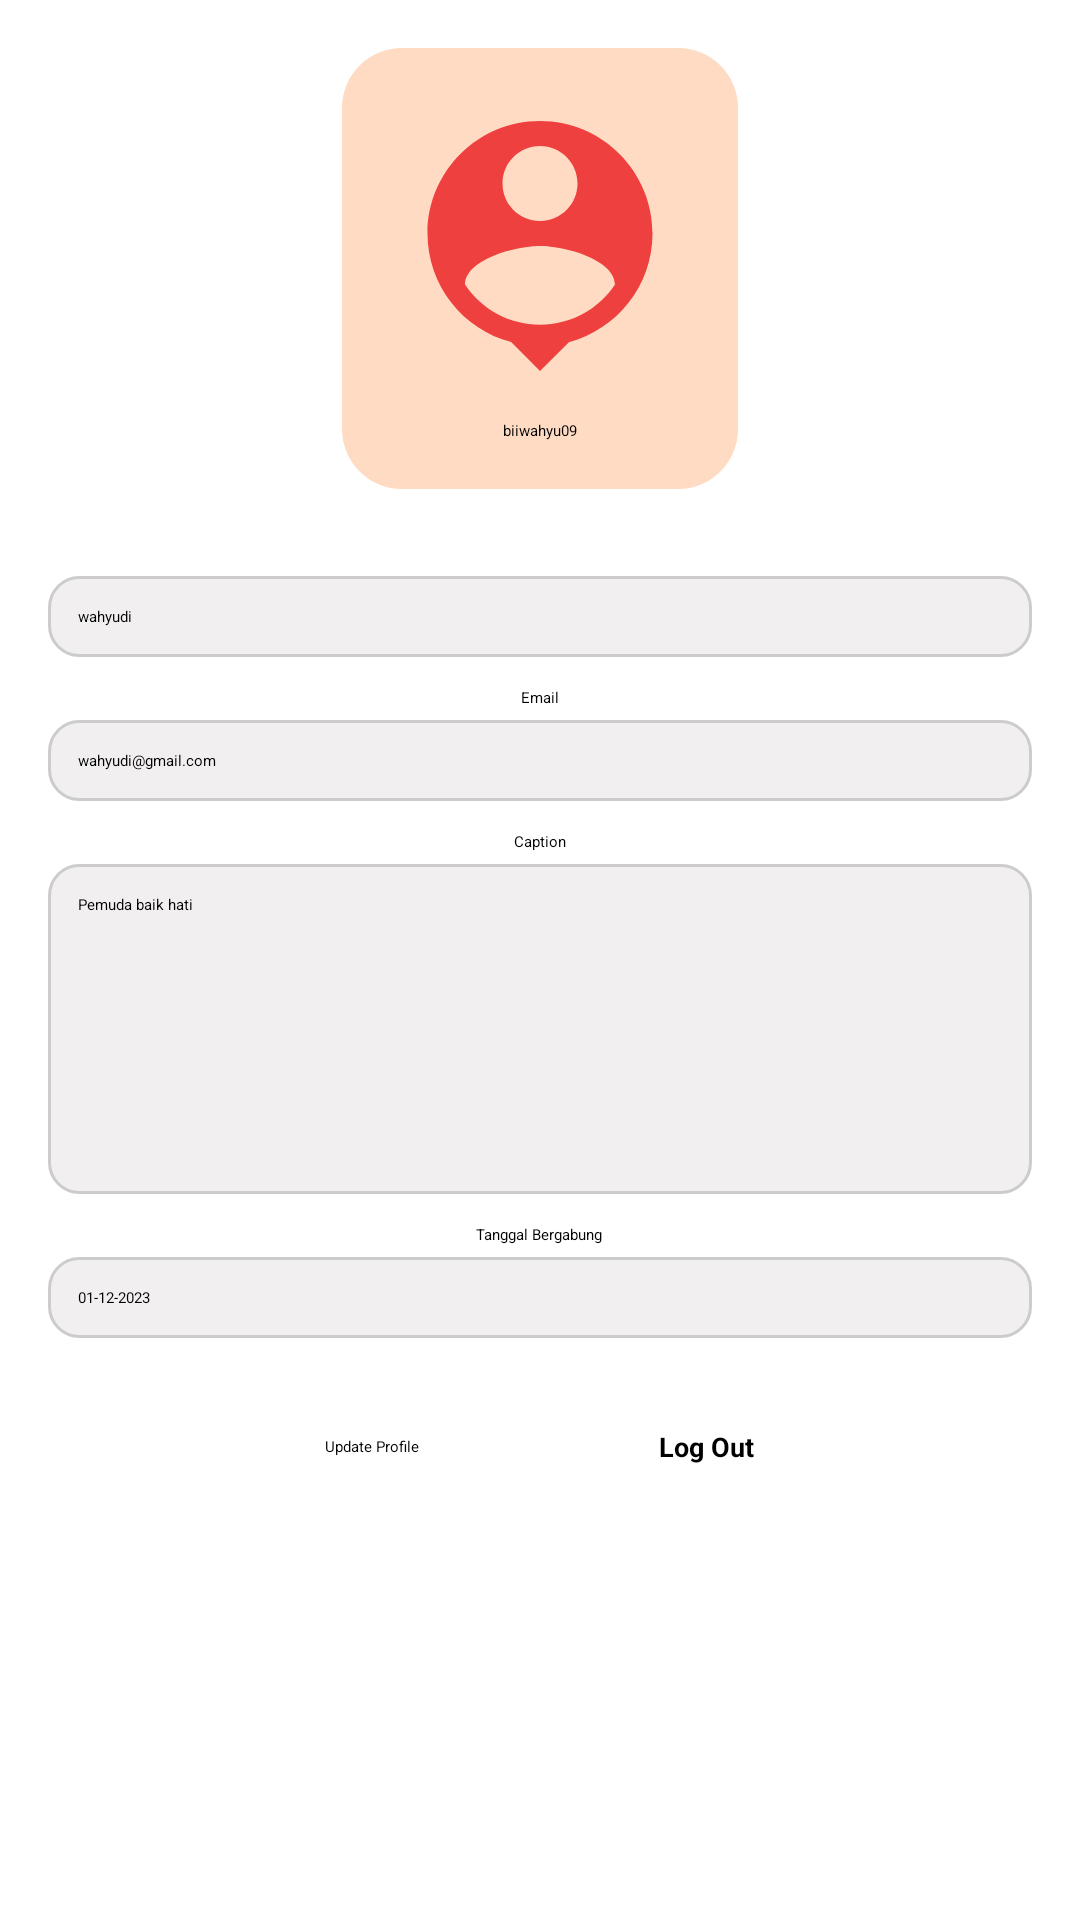

Icons on this 1080px×1920px Android screen, each with its box as bbox=[x1, y1, x2, y2]:
profile: bbox=[427, 121, 653, 371]
